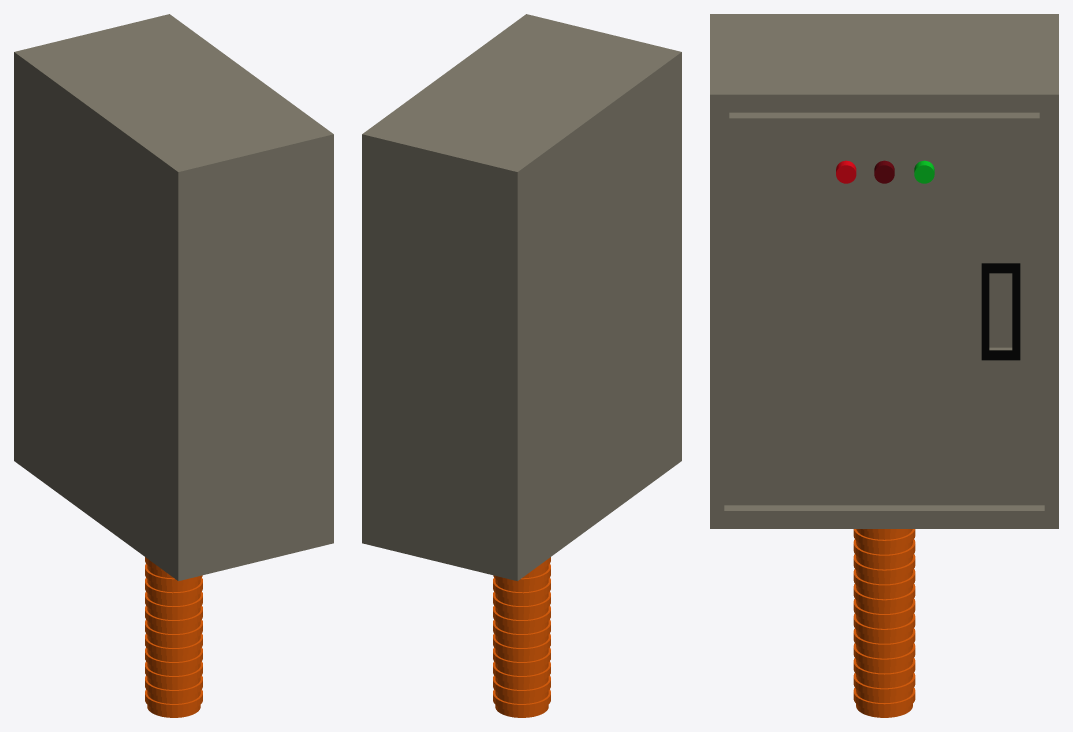
Rendered from powerbox.fbx.
3 views of the same model, side by side, from view 1: azimuth 30°, elevation 25°; view 2: azimuth 150°, elevation 25°; view 3: azimuth 270°, elevation 25° (orthographic). The views are drawn at different scales.
Visible parts, largest first — view 1: Cube, Cylinder; view 2: Cube, Cylinder; view 3: Cube, Cylinder.
Part boxes in pixels (x1,y1,x2,y2): Cube: [14, 14, 333, 581]; Cylinder: [145, 557, 202, 717]; Cube: [362, 14, 681, 581]; Cylinder: [493, 557, 550, 717]; Cube: [710, 14, 1058, 528]; Cylinder: [853, 529, 915, 717].
Size of the model in its own units: 211 by 754 by 366.
